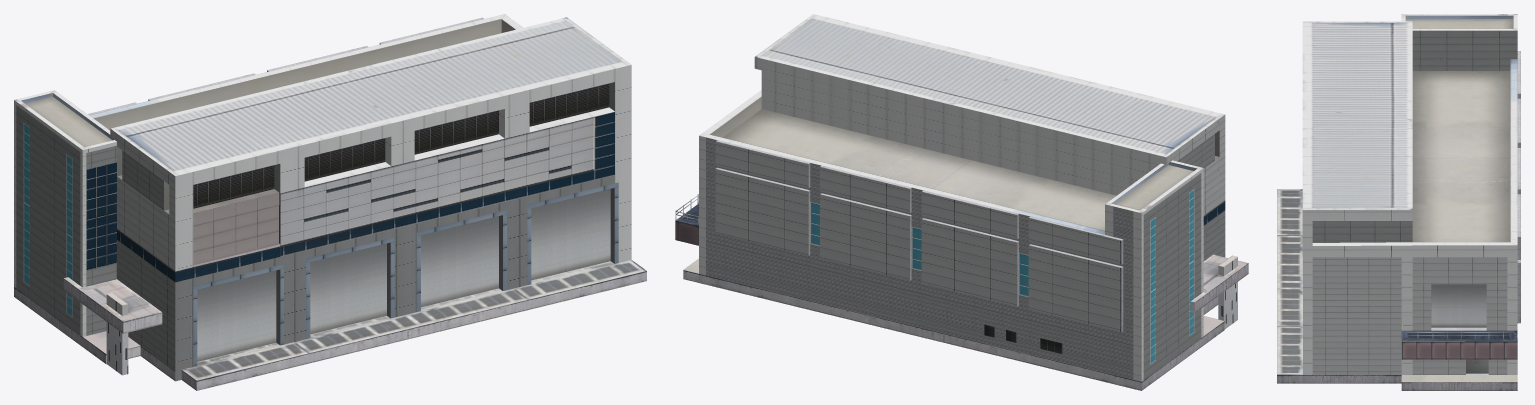
The picture shows the model from 3 angles, left to right: view 1: azimuth 30°, elevation 25°; view 2: azimuth 150°, elevation 25°; view 3: azimuth 270°, elevation 25°; orthographic projection. The views are drawn at different scales.
Visible parts, largest first — view 1: MainBuilding; view 2: MainBuilding; view 3: MainBuilding.
Boxes of the visible parts, left/top/right/bottom form: MainBuilding: left=14, top=14, right=646, bottom=390; MainBuilding: left=675, top=14, right=1248, bottom=390; MainBuilding: left=1277, top=14, right=1520, bottom=390.
Size of the model in its own units: 4.91 by 1.85 by 2.35.
1 material, 1 textured.
